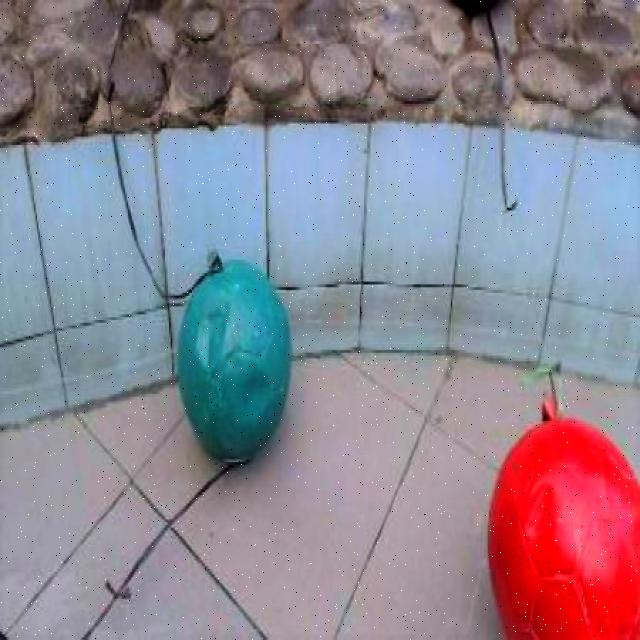buoy: (487, 414, 639, 636), (176, 258, 292, 460)
